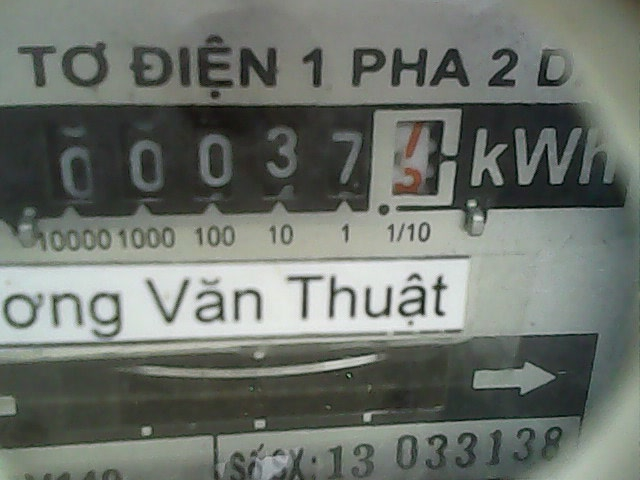phy_plate: (27, 104, 465, 217)
